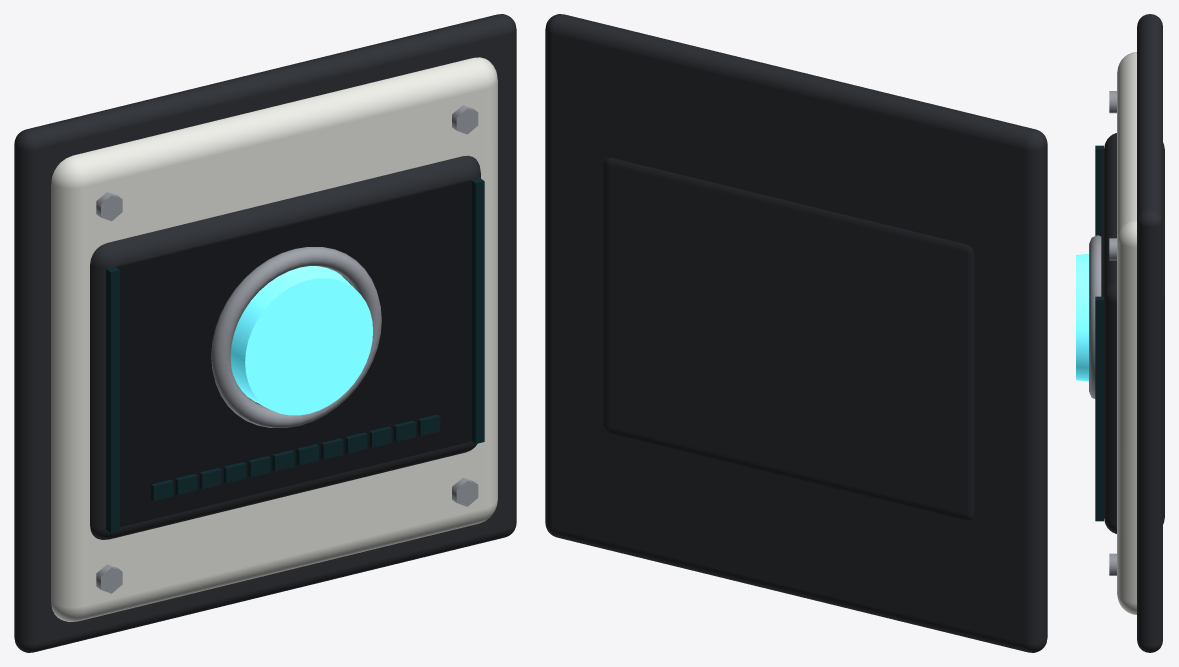
The model's file is push_console_wall.glb.
The picture shows the model from 3 angles, left to right: view 1: azimuth 30°, elevation 25°; view 2: azimuth 150°, elevation 25°; view 3: azimuth 270°, elevation 25°; orthographic projection. The views are drawn at different scales.
Parts seen in each view (by area): view 1: group, cap, lamps_0, lamps_1; view 2: group; view 3: group, lamps_1, cap, lamps_0.
Part boxes in pixels (x1,y1,x2,y2): group: (14, 14, 516, 652); cap: (230, 266, 373, 415); lamps_0: (106, 266, 119, 532); lamps_1: (471, 177, 484, 443); group: (545, 14, 1047, 652); group: (1089, 14, 1164, 652); lamps_1: (1095, 296, 1103, 521); cap: (1076, 254, 1088, 381); lamps_0: (1095, 145, 1103, 236).
Bounding box in the file's own units: 0.56 × 0.56 × 0.102.
